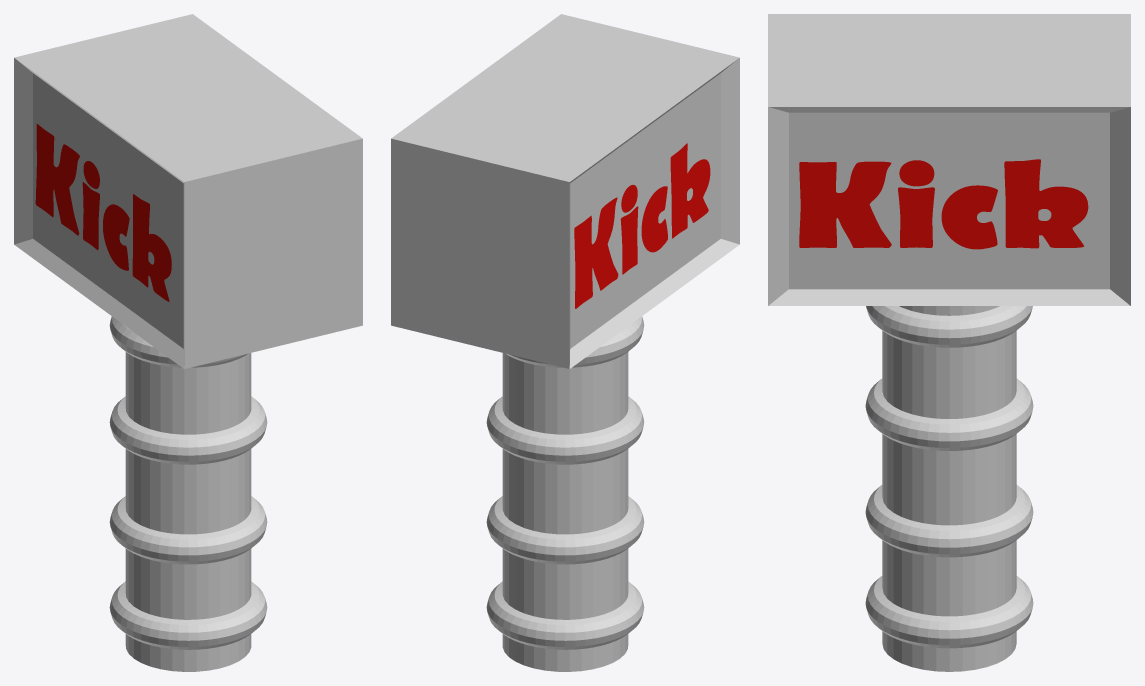
File: Kick_Hammer.fbx
The picture shows the model from 3 angles, left to right: view 1: azimuth 30°, elevation 25°; view 2: azimuth 150°, elevation 25°; view 3: azimuth 270°, elevation 25°; orthographic projection. The views are drawn at different scales.
Parts seen in each view (by area): view 1: Cube, Cylinder, Text, Torus, Torus.001, Torus.002, Torus.003; view 2: Cube, Cylinder, Text, Torus, Torus.001, Torus.002, Torus.003; view 3: Cube, Cylinder, Text.001, Torus, Torus.001, Torus.002, Torus.003.
Part boxes in pixels (box(x1,y1,x2,y2)): Cube: box(14, 14, 362, 368); Cylinder: box(125, 352, 251, 671); Text: box(35, 124, 171, 301); Torus: box(109, 581, 267, 649); Torus.001: box(109, 496, 267, 564); Torus.002: box(109, 396, 267, 464); Torus.003: box(109, 316, 248, 367); Cube: box(391, 14, 739, 368); Cylinder: box(502, 352, 628, 671); Text: box(574, 143, 710, 308); Torus: box(486, 581, 644, 649); Torus.001: box(486, 496, 644, 564); Torus.002: box(486, 396, 644, 464); Torus.003: box(505, 316, 644, 367); Cube: box(768, 14, 1130, 305); Cylinder: box(882, 306, 1016, 671); Text.001: box(799, 159, 1088, 249); Torus: box(865, 576, 1033, 648); Torus.001: box(865, 485, 1033, 557); Torus.002: box(865, 378, 1033, 450); Torus.003: box(866, 306, 1032, 347).
Size of the model in its own units: 94.86 by 278 by 156.
